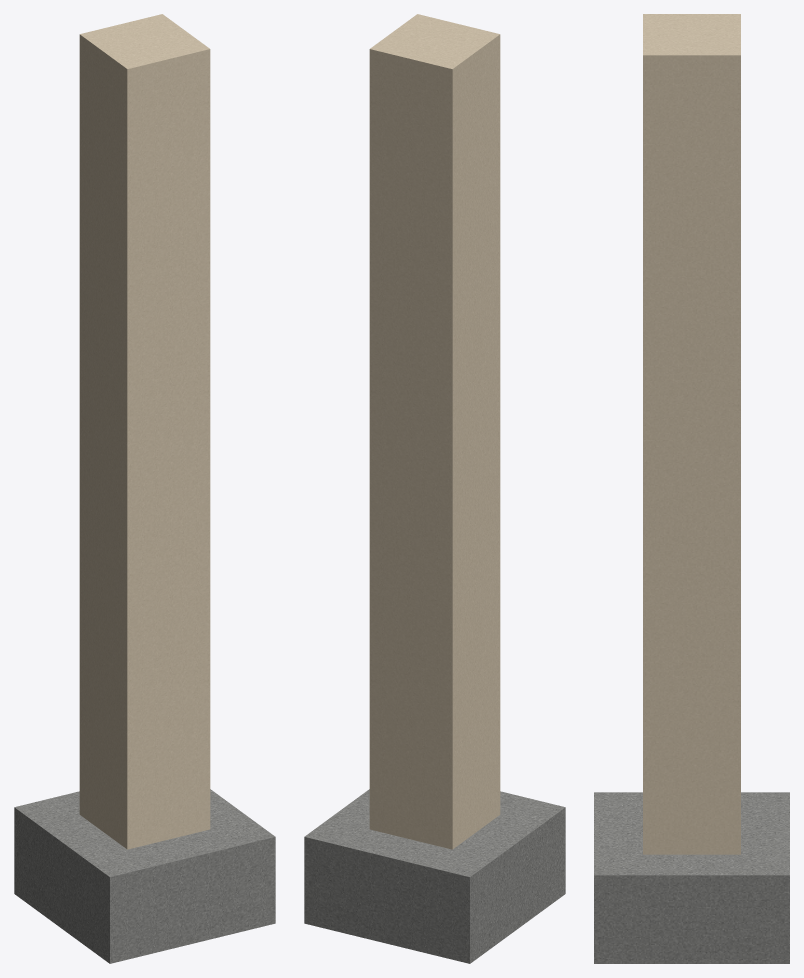
File: estate_pillar_4p.glb
3 views of the same model, side by side, from view 1: azimuth 30°, elevation 25°; view 2: azimuth 150°, elevation 25°; view 3: azimuth 270°, elevation 25° (orthographic). The views are drawn at different scales.
Parts seen in each view (by area): view 1: Cube.001, Cube; view 2: Cube.001, Cube; view 3: Cube.001, Cube.
Part boxes in pixels (left/top/right/bottom): Cube.001: left=79, top=14, right=210, bottom=849; Cube: left=14, top=789, right=275, bottom=963; Cube.001: left=369, top=14, right=500, bottom=849; Cube: left=304, top=789, right=565, bottom=963; Cube.001: left=643, top=14, right=740, bottom=854; Cube: left=594, top=792, right=789, bottom=963.
Bounding box in the file's own units: 0.6 × 3 × 0.6.
Materials: 2 (2 with a texture image).
